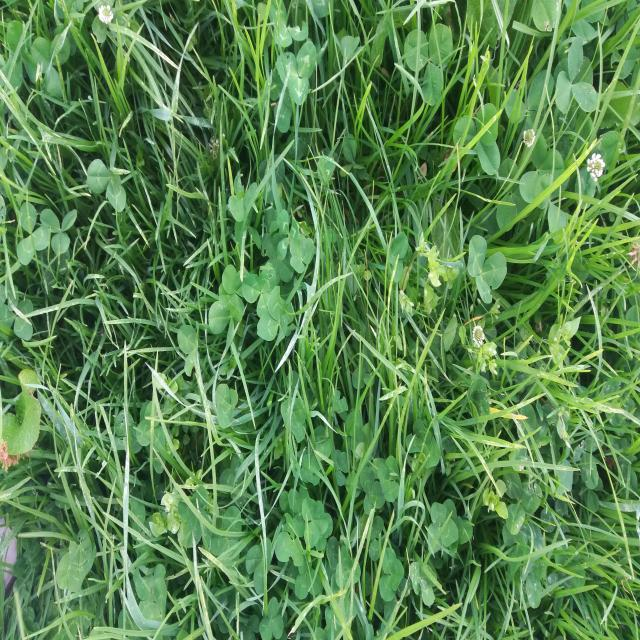Four Leaf Clover: (261, 255, 311, 333), (313, 287, 372, 347), (413, 255, 457, 316), (451, 320, 494, 378), (218, 264, 249, 315)
